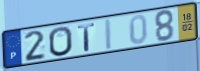0: (127, 13, 149, 46)
2: (23, 29, 47, 63)
8: (153, 9, 176, 44)
I: (104, 17, 114, 51)
O: (47, 26, 74, 58)
T: (76, 21, 97, 53)
